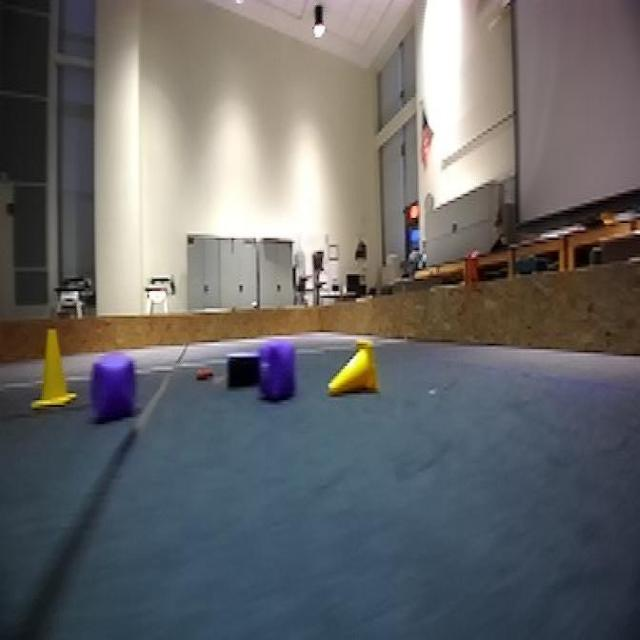frc_cone: (326, 335, 383, 407), (31, 323, 76, 412)
frc_cube: (256, 337, 298, 403), (92, 361, 132, 420)
